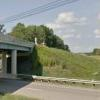Bridge: (0, 25, 31, 68)
